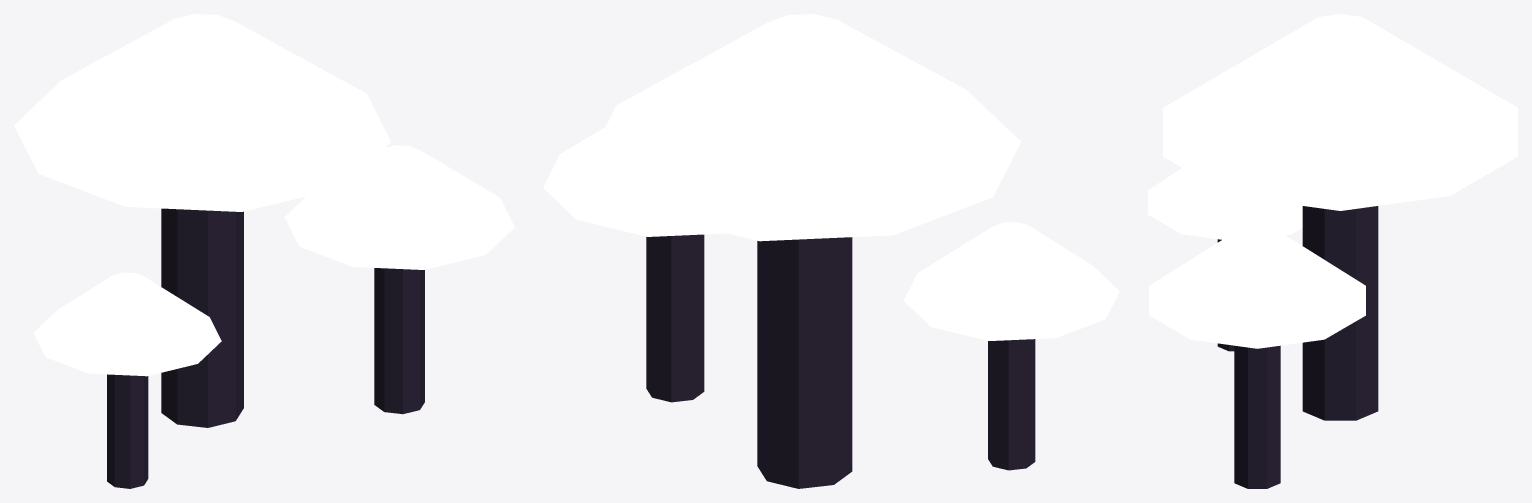
File: GloamCap.glb
The picture shows the model from 3 angles, left to right: view 1: azimuth 30°, elevation 25°; view 2: azimuth 150°, elevation 25°; view 3: azimuth 270°, elevation 25°; orthographic projection. The views are drawn at different scales.
Parts seen in each view (by area): view 1: Glow, Body; view 2: Glow, Body; view 3: Glow, Body.
Part boxes in pixels (left/top/right/bottom): Glow: left=14, top=14, right=514, bottom=376; Body: left=107, top=208, right=424, bottom=488; Glow: left=543, top=14, right=1119, bottom=340; Body: left=646, top=234, right=1035, bottom=488; Glow: left=1148, top=14, right=1517, bottom=348; Body: left=1217, top=206, right=1378, bottom=488.
Size of the model in its own units: 2.55 by 2 by 1.78.
